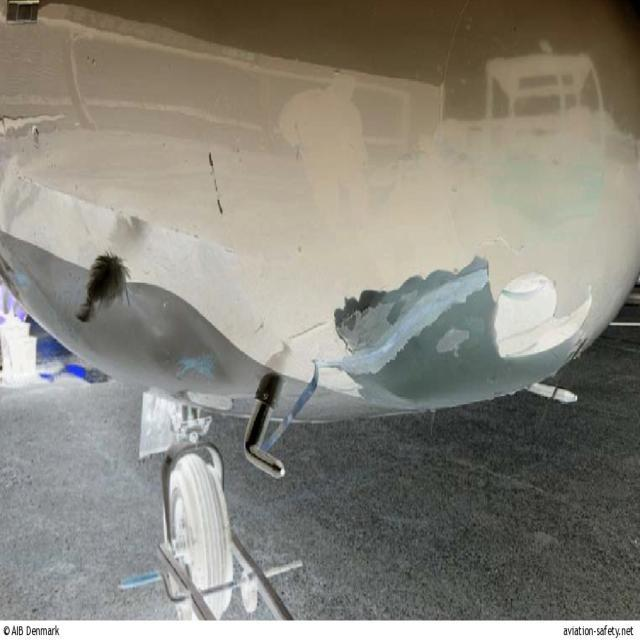dent: (134, 299, 237, 387), (380, 329, 463, 400)
